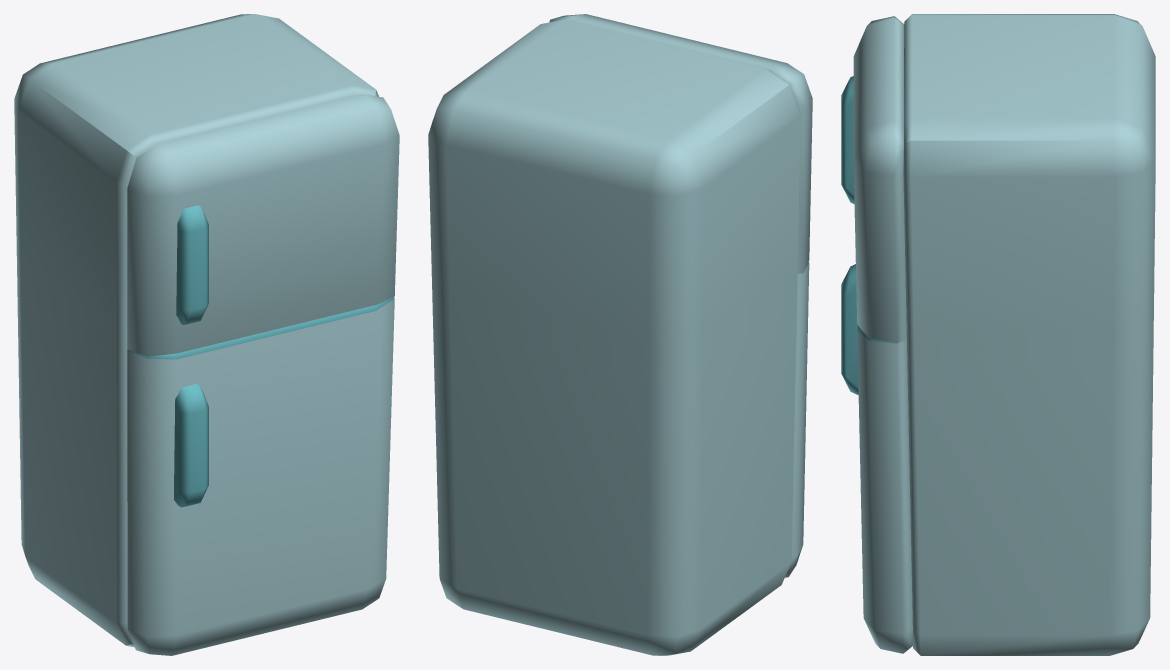
Rendered from app_fridge.fbx.
The picture shows the model from 3 angles, left to right: view 1: azimuth 30°, elevation 25°; view 2: azimuth 150°, elevation 25°; view 3: azimuth 270°, elevation 25°; orthographic projection. The views are drawn at different scales.
Visible parts, largest first — view 1: fridge_body, fridge_bot_door, fridge_top_door; view 2: fridge_body, fridge_top_door, fridge_bot_door; view 3: fridge_body, fridge_top_door, fridge_bot_door.
Part boxes in pixels (<box>): fridge_body: <box>14,14,378,647</box>; fridge_bot_door: <box>127,297,394,655</box>; fridge_top_door: <box>127,94,399,356</box>; fridge_body: <box>428,19,800,655</box>; fridge_top_door: <box>549,14,812,273</box>; fridge_bot_door: <box>785,262,809,577</box>; fridge_body: <box>903,14,1155,655</box>; fridge_top_door: <box>841,16,906,342</box>; fridge_bot_door: <box>841,264,912,653</box>.
Size of the model in its own units: 65.59 by 120 by 63.27.
